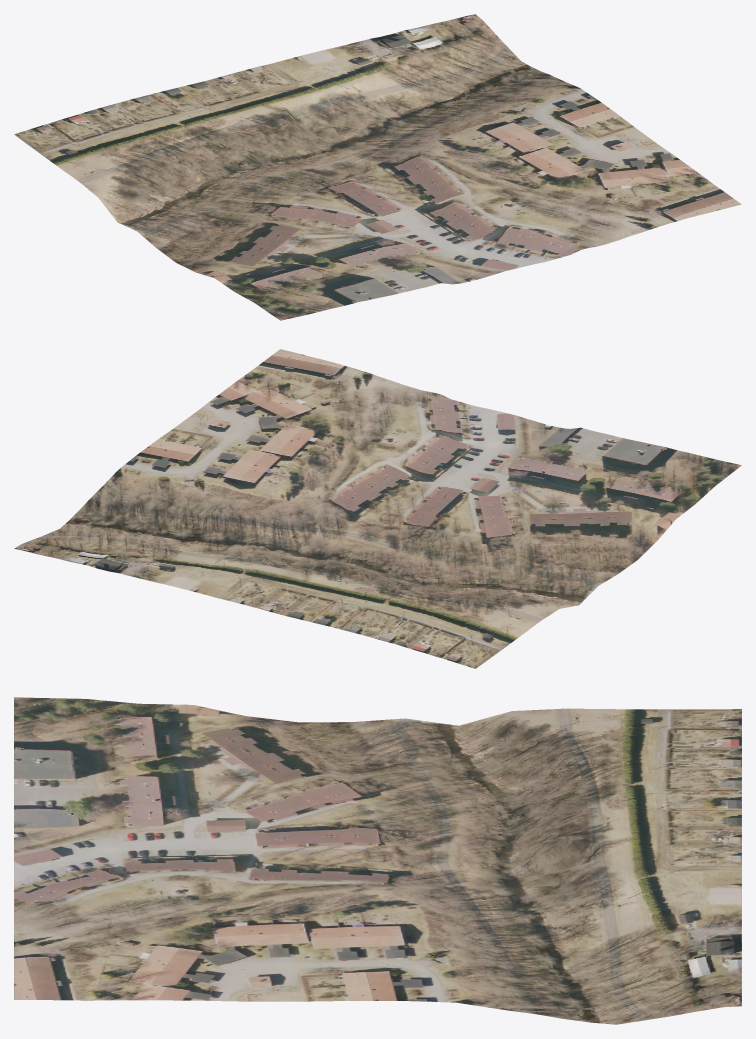
File: CM_Terrain_24489844_6818360.fbx
The picture shows the model from 3 angles, top to bottom: view 1: azimuth 30°, elevation 25°; view 2: azimuth 150°, elevation 25°; view 3: azimuth 270°, elevation 25°; orthographic projection. The views are drawn at different scales.
Visible parts, largest first — view 1: CM_Terrain_24489844_6818360_LOD0; view 2: CM_Terrain_24489844_6818360_LOD0; view 3: CM_Terrain_24489844_6818360_LOD0.
Boxes of the visible parts, <box> form: CM_Terrain_24489844_6818360_LOD0: <box>14,14,741,320</box>; CM_Terrain_24489844_6818360_LOD0: <box>14,349,741,668</box>; CM_Terrain_24489844_6818360_LOD0: <box>14,697,741,1024</box>.
Size of what is drawn, in the model's own units: 205 by 10.41 by 205.
